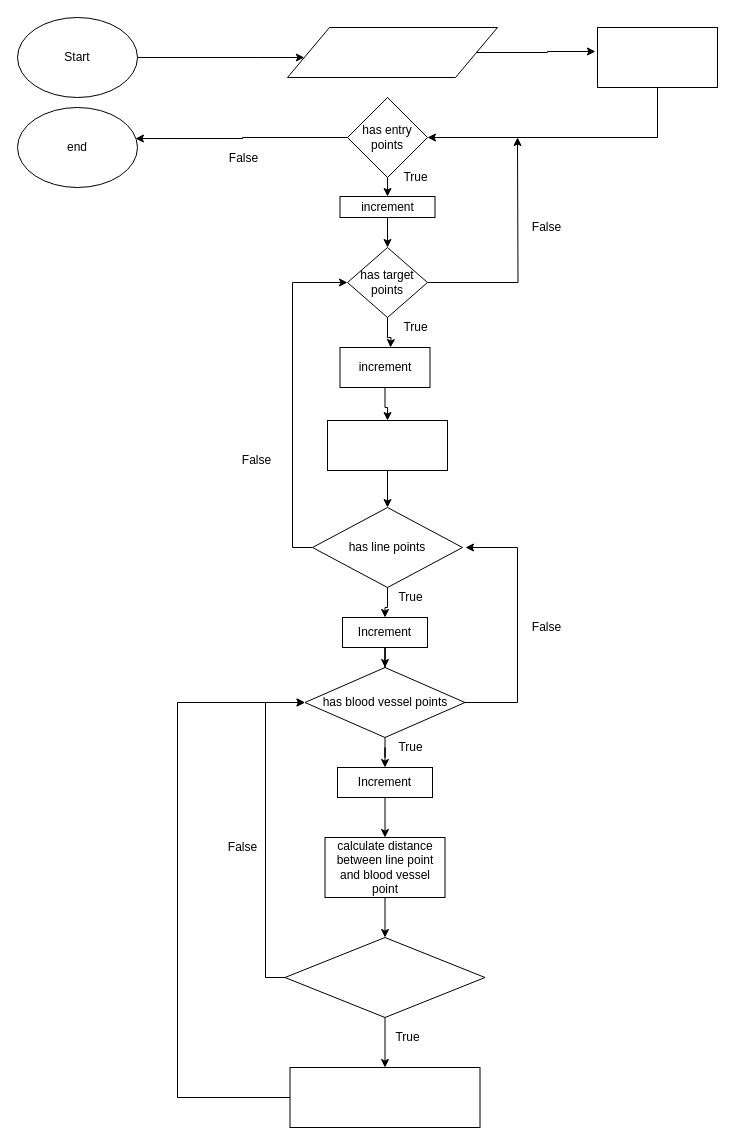
This 735x1145 diagram has some shape labels left out. Here are the shapes that lost their labels. From the top down, the centre of each, then its label:
the point at 392,52: get entry points get target points get blood vessel points
the point at 657,57: minDistance = infinity bestTrajectory = null
the point at 387,445: Calculate line points between entry and target
the point at 384,977: distance < minDistance
the point at 384,1097: minDistance = distance bestTrajectory = (entry, traget)
